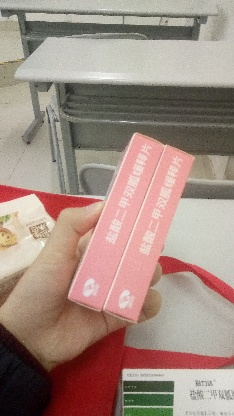pillbox: (65, 132, 160, 310), (105, 145, 196, 323)
